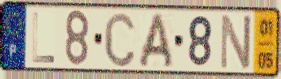8: (64, 9, 90, 69), (187, 14, 214, 70)
A: (136, 11, 175, 70)
C: (103, 10, 137, 70)
L: (31, 11, 56, 65)
N: (218, 12, 253, 72)
